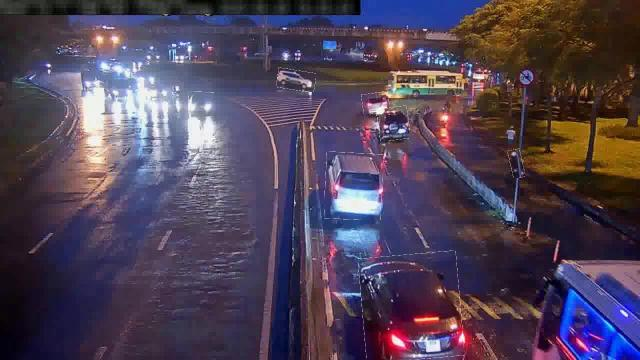Bike: (508, 150, 524, 178)
Car: (361, 252, 464, 360), (325, 153, 383, 220), (377, 107, 409, 141), (276, 69, 316, 91), (362, 92, 390, 114), (189, 92, 215, 114)
